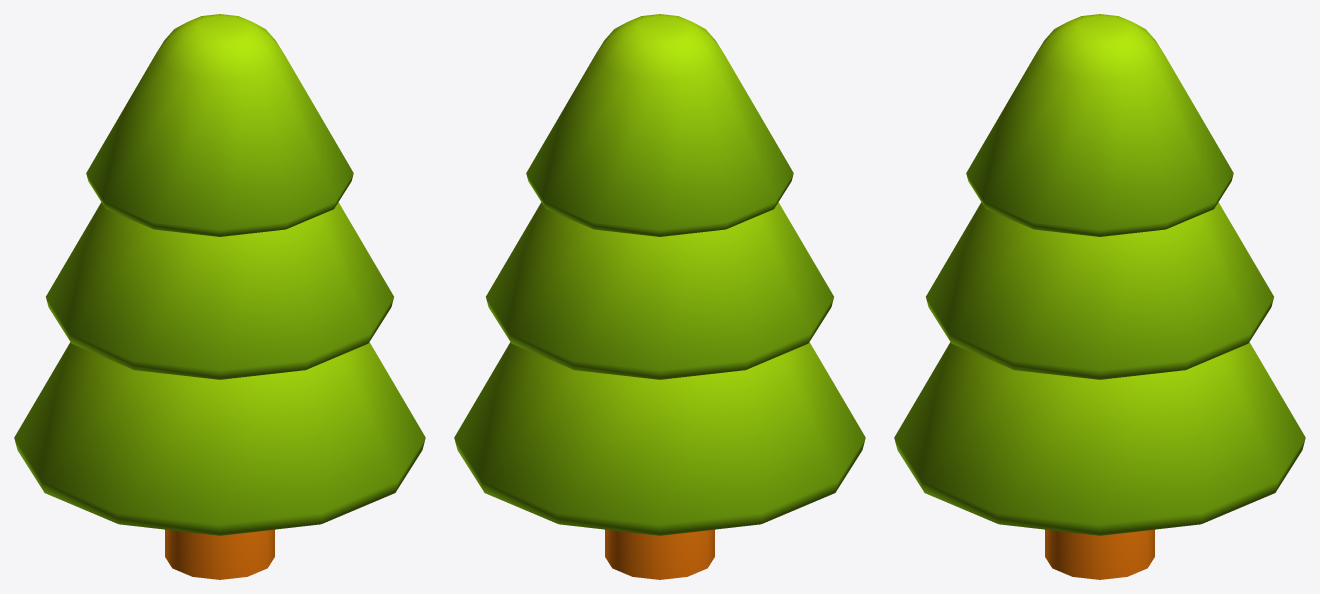
File: Plant_Pine_01.glb
3 renders of one model, left to right at view 1: azimuth 30°, elevation 25°; view 2: azimuth 150°, elevation 25°; view 3: azimuth 270°, elevation 25°, orthographic.
Visible parts, largest first — view 1: Plant_Pine_01; view 2: Plant_Pine_01; view 3: Plant_Pine_01.
Part boxes in pixels (x1=…): Plant_Pine_01: x1=14, y1=14, x2=425, y2=579; Plant_Pine_01: x1=454, y1=14, x2=865, y2=579; Plant_Pine_01: x1=894, y1=14, x2=1305, y2=579.
Size of the model in its own units: 2 by 2.84 by 2.
1 material, 1 textured.
